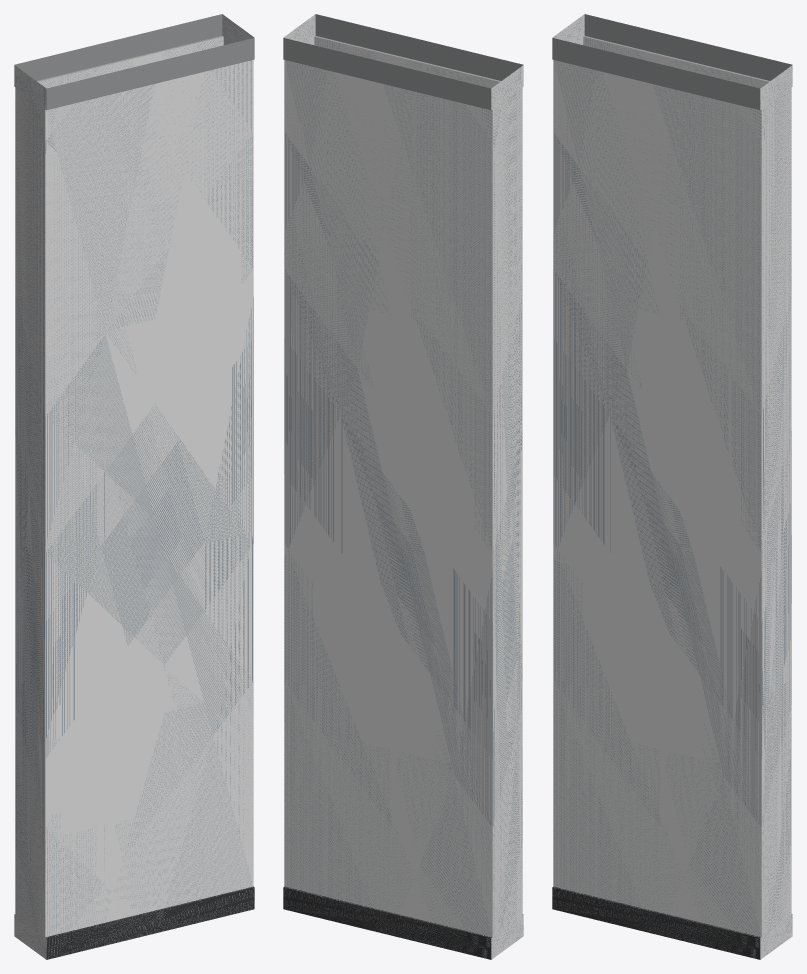
File: BlockWall_ds_plinth_1x4x025.dae
3 renders of one model, left to right at view 1: azimuth 30°, elevation 25°; view 2: azimuth 150°, elevation 25°; view 3: azimuth 330°, elevation 25°, orthographic.
Parts seen in each view (by area): view 1: group_0 (×4); view 2: group_0 (×4); view 3: group_0 (×4).
Part boxes in pixels (x1,y1,x2,y2): group_0 (×4): (14,14,254,959); group_0 (×4): (283,14,523,959); group_0 (×4): (552,14,792,959).
Bounding box in the file's own units: 39.37 × 10.63 × 157.
